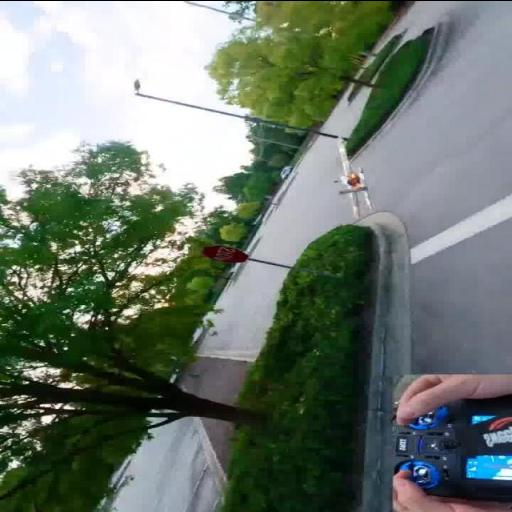uav: (334, 134, 380, 223)
